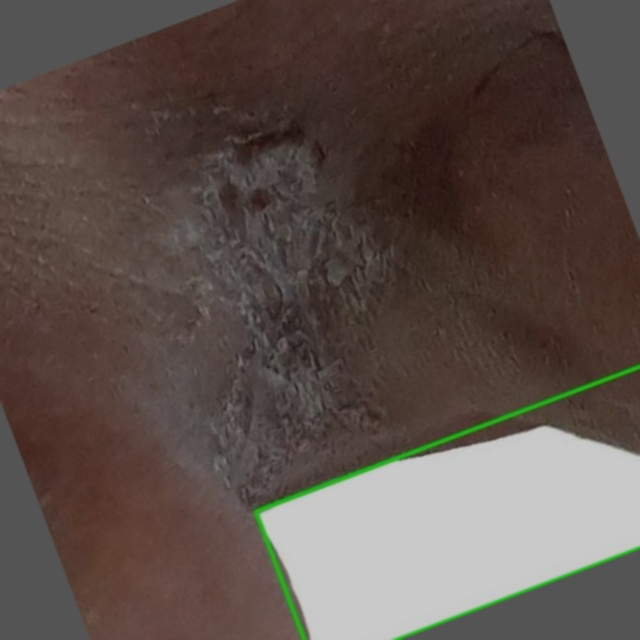Contact Dermatitis: (255, 366, 639, 639)
